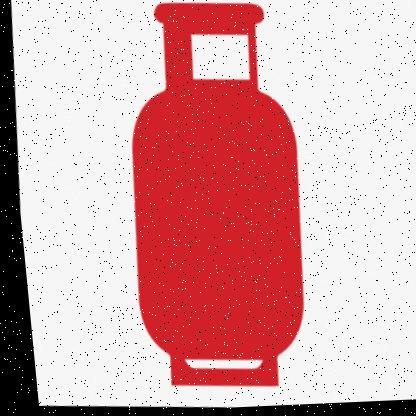gas-tank: (88, 0, 332, 408)
